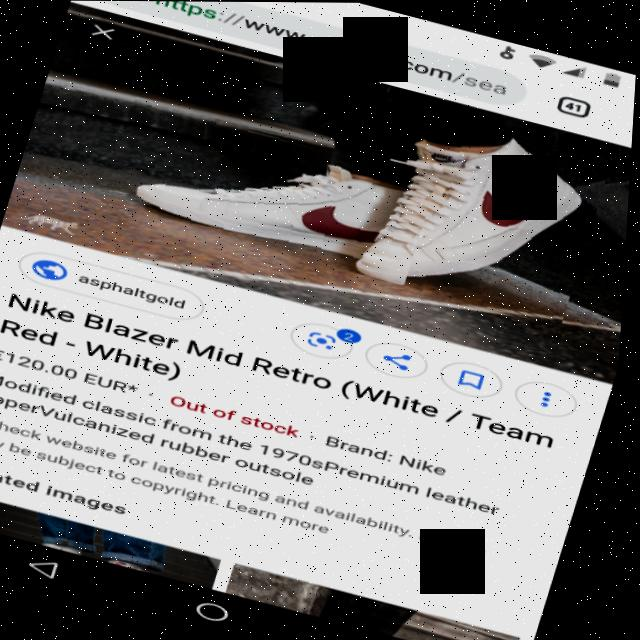shoe: (318, 99, 615, 330), (100, 96, 443, 285)
